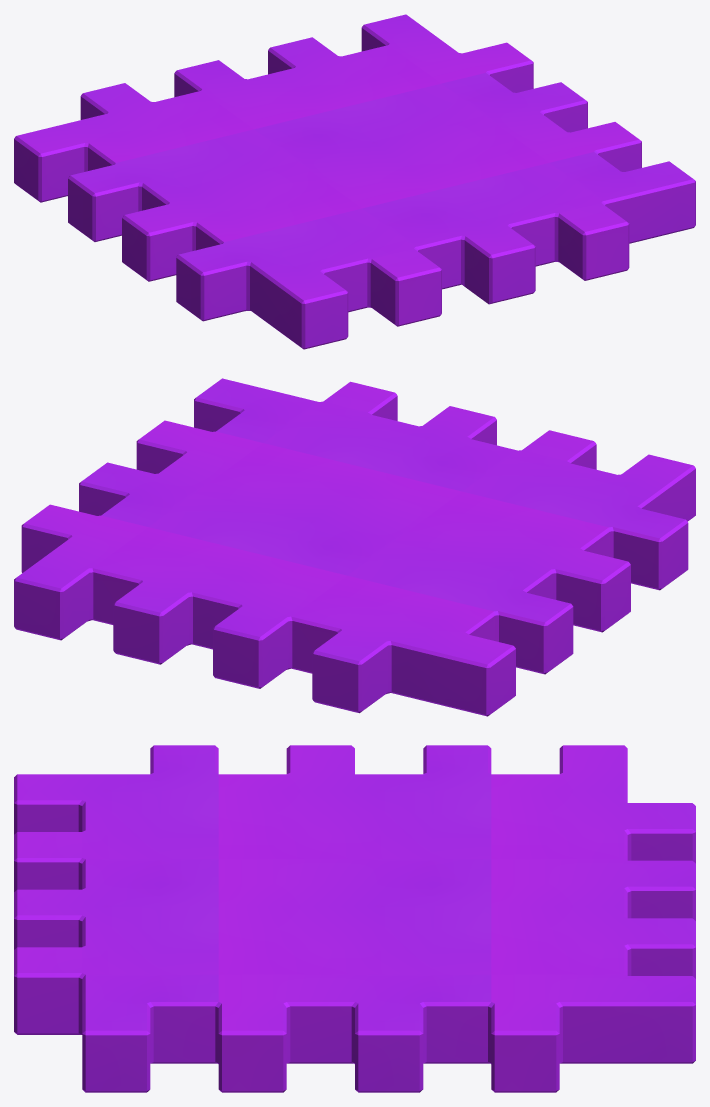
Rendered from PinkSquare.fbx.
3 views of the same model, one above another, from view 1: azimuth 30°, elevation 25°; view 2: azimuth 150°, elevation 25°; view 3: azimuth 270°, elevation 25° (orthographic). The views are drawn at different scales.
Visible parts, largest first — view 1: BlueSquare; view 2: BlueSquare; view 3: BlueSquare.
Boxes of the visible parts, bbox=[...] form: BlueSquare: bbox=[14, 14, 695, 349]; BlueSquare: bbox=[14, 378, 695, 716]; BlueSquare: bbox=[14, 745, 695, 1092].
Size of the model in its own units: 5 by 0.4999 by 5.
